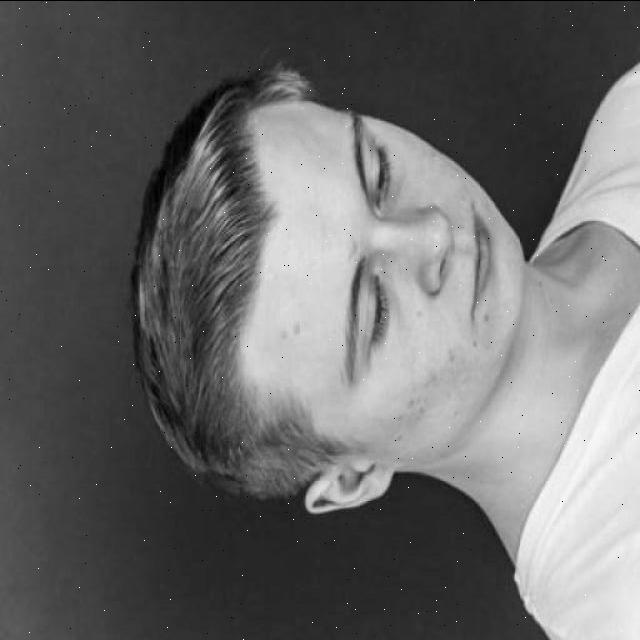Acne: (397, 314, 500, 438)
